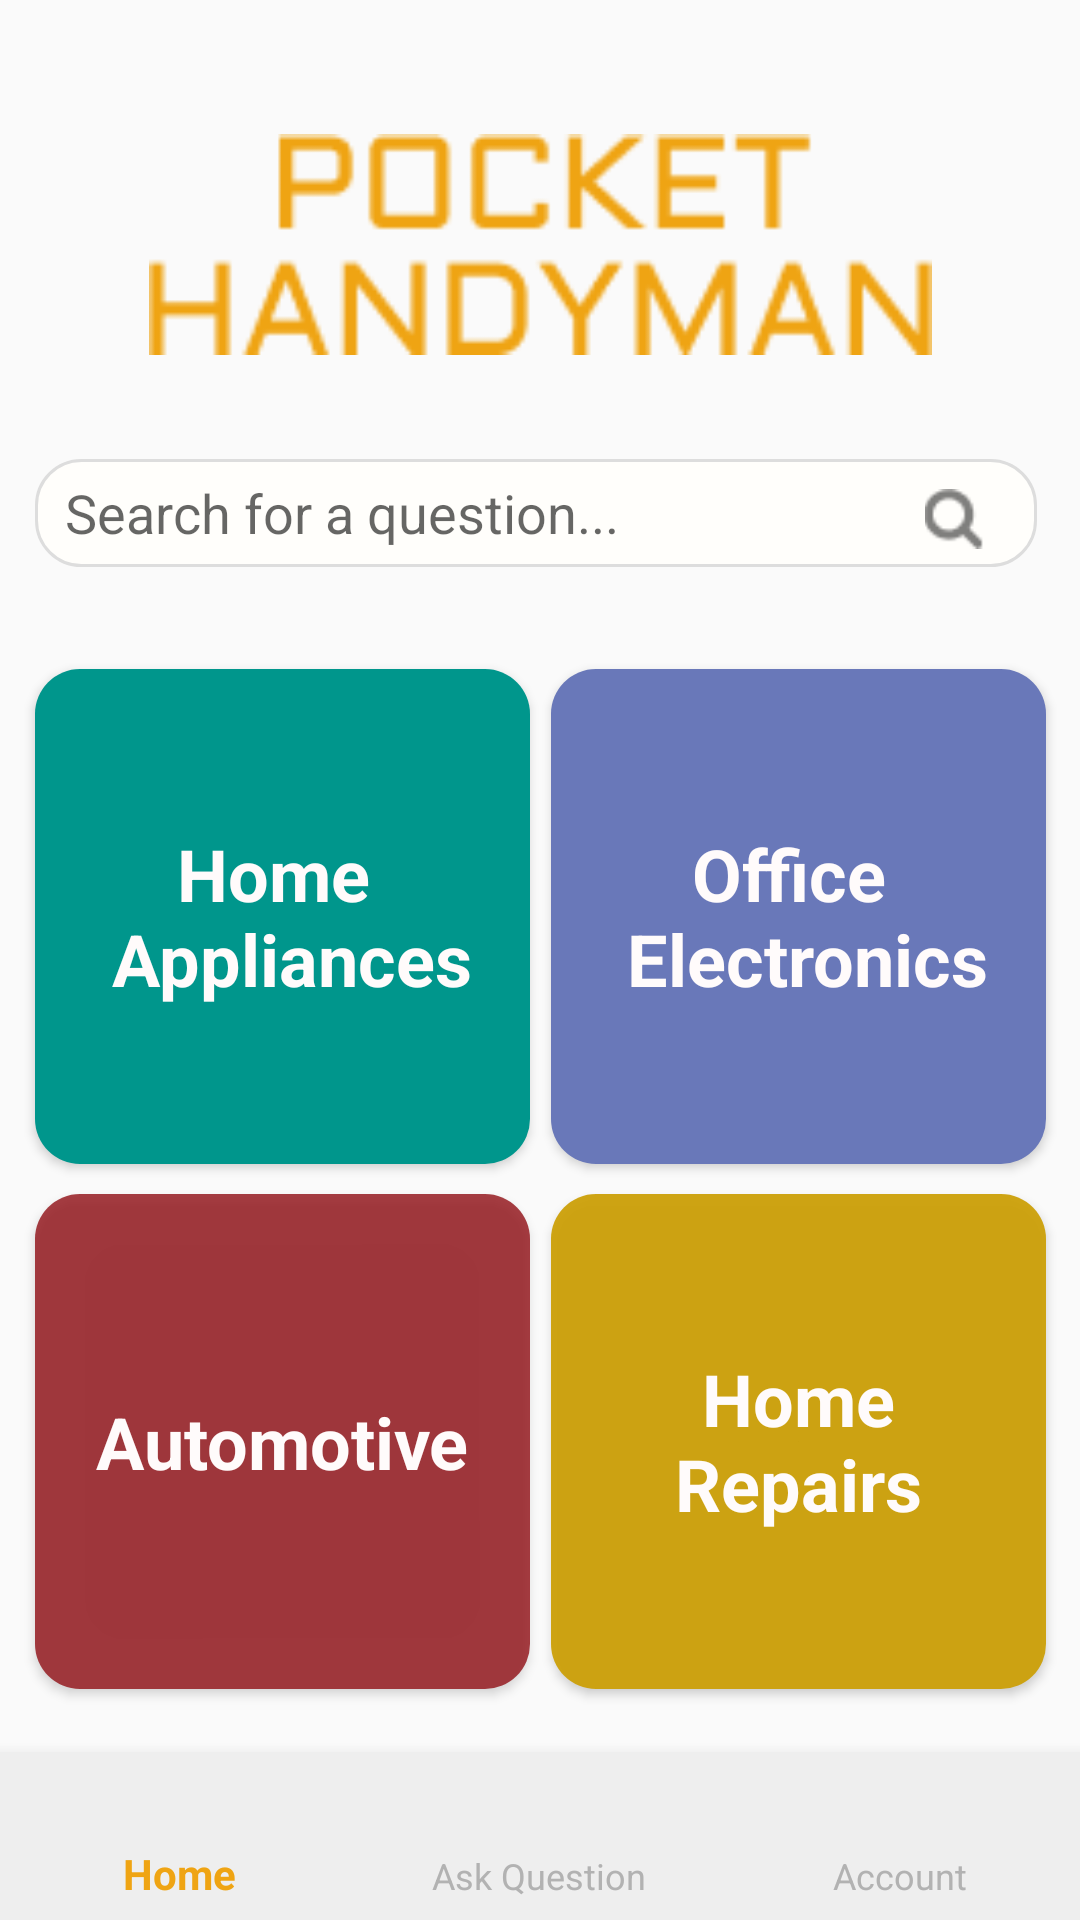

Named icons in this screenshot (1080*1920) and their bounding boxes, (x1, y1, x2, y2):
magnifying glass: (925, 489, 983, 549)
